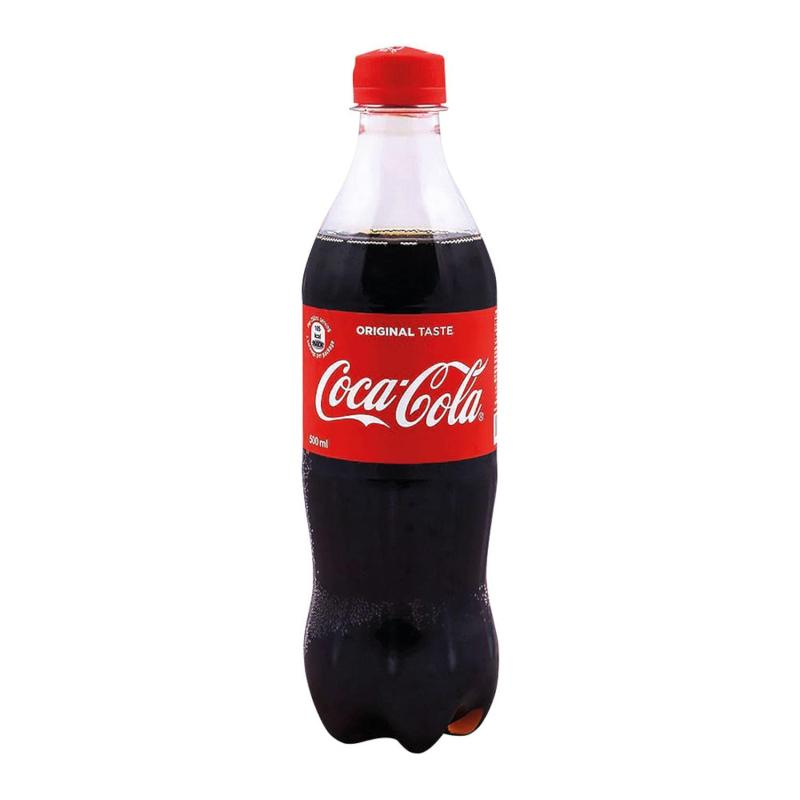botella: (300, 41, 501, 753)
